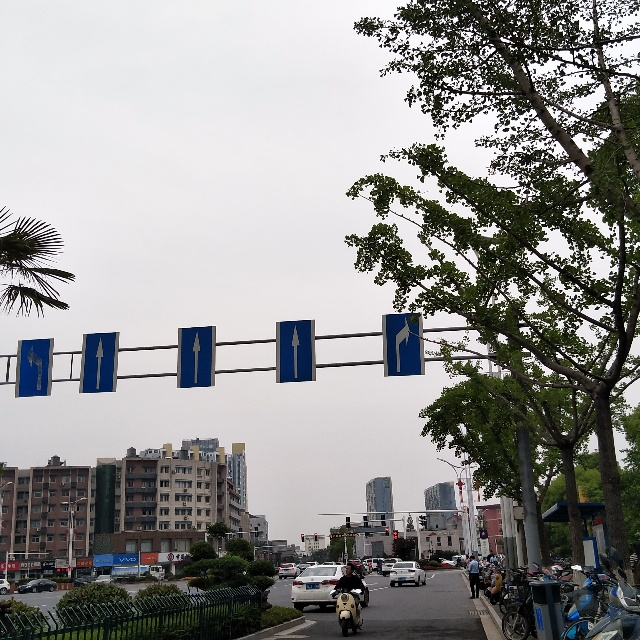left: (22, 340, 53, 397)
right: (381, 315, 421, 378)
straight: (180, 327, 215, 387), (283, 316, 312, 382), (84, 332, 115, 392)
